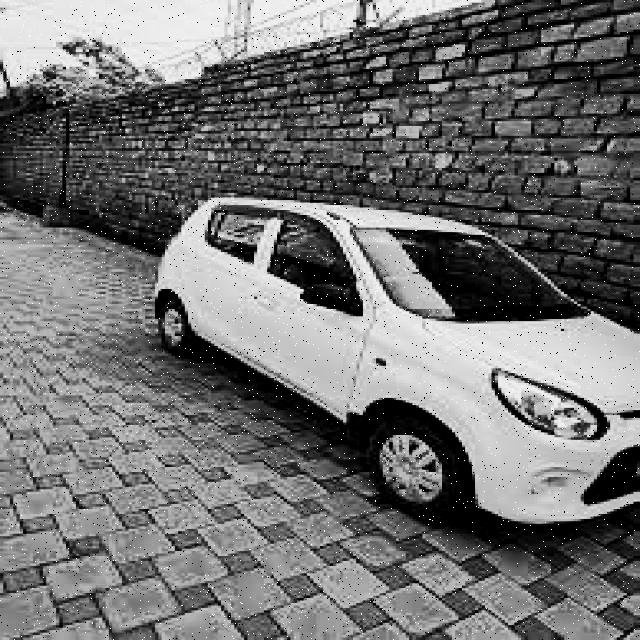Car: (148, 191, 640, 532)
